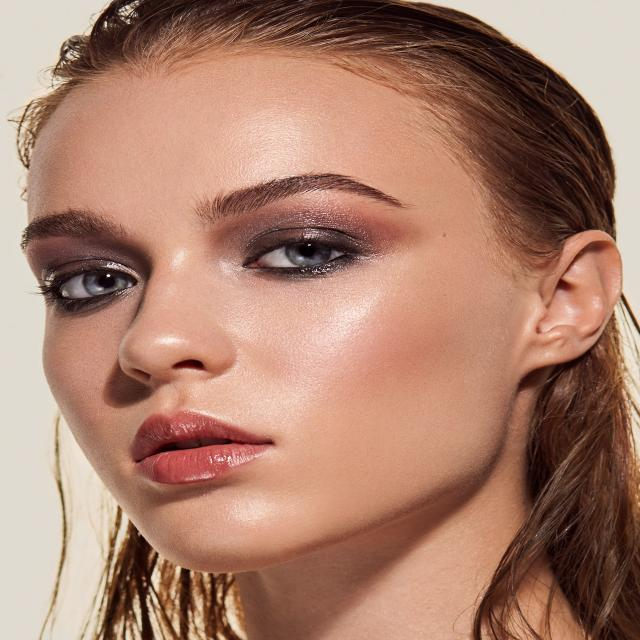earlobe: (527, 230, 623, 372)
